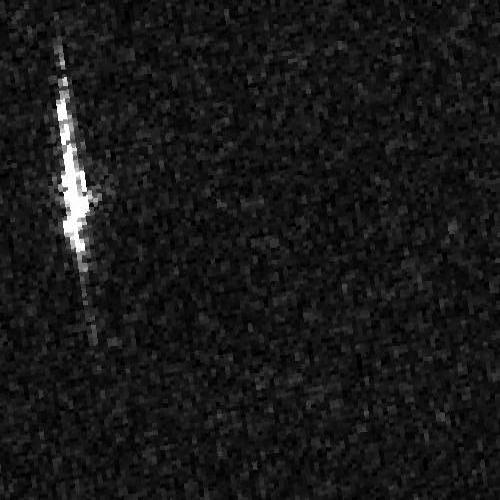ship: (55, 74, 92, 267)
